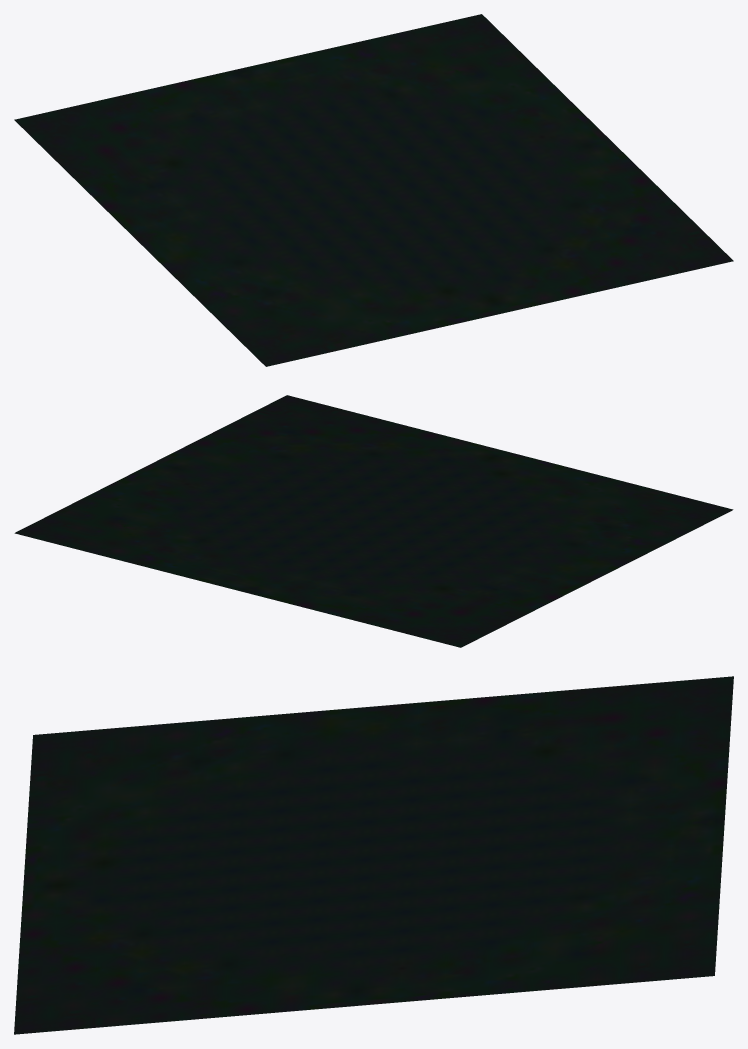
Rendered from Shadow #680202.fbx.
3 views of the same model, one above another, from view 1: azimuth 30°, elevation 25°; view 2: azimuth 150°, elevation 25°; view 3: azimuth 270°, elevation 25° (orthographic). The views are drawn at different scales.
Visible parts, largest first — view 1: Shadow; view 2: Shadow; view 3: Shadow.
Boxes of the visible parts, bbox=[...] form: Shadow: bbox=[14, 14, 733, 366]; Shadow: bbox=[14, 395, 733, 647]; Shadow: bbox=[14, 676, 733, 1034].
Bounding box in the file's own units: 0.4485 × 0.0469 × 0.4461.
